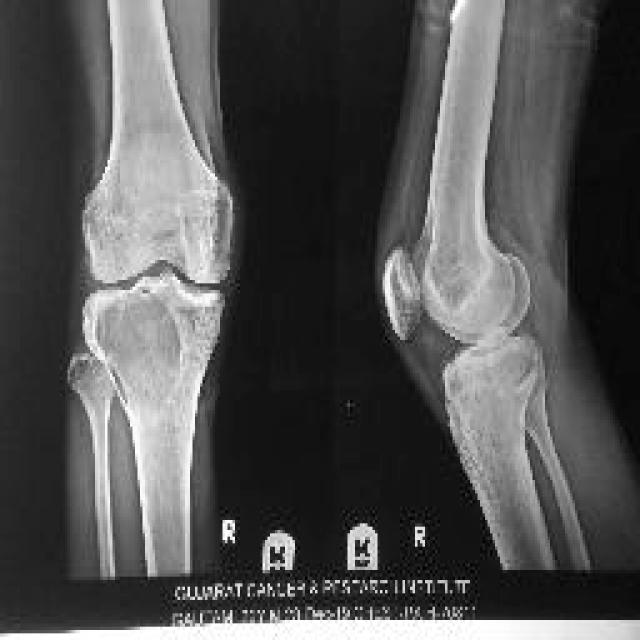bone-cancer: (90, 292, 184, 425)
